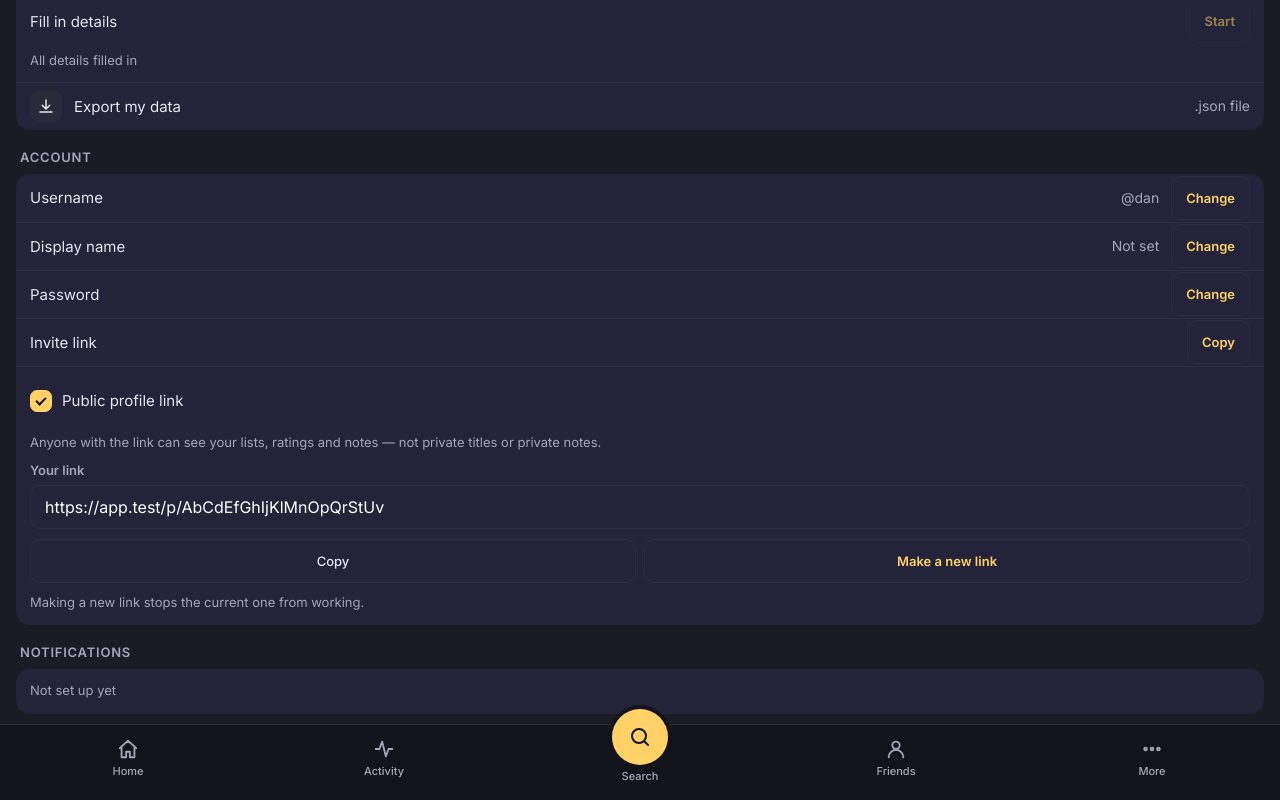
Settings > Public profile link › turning it off deletes the link and hides it
(page scrolled)
Click the switch labelled "Public profile link" at (41, 401), box [30,390,52,412]
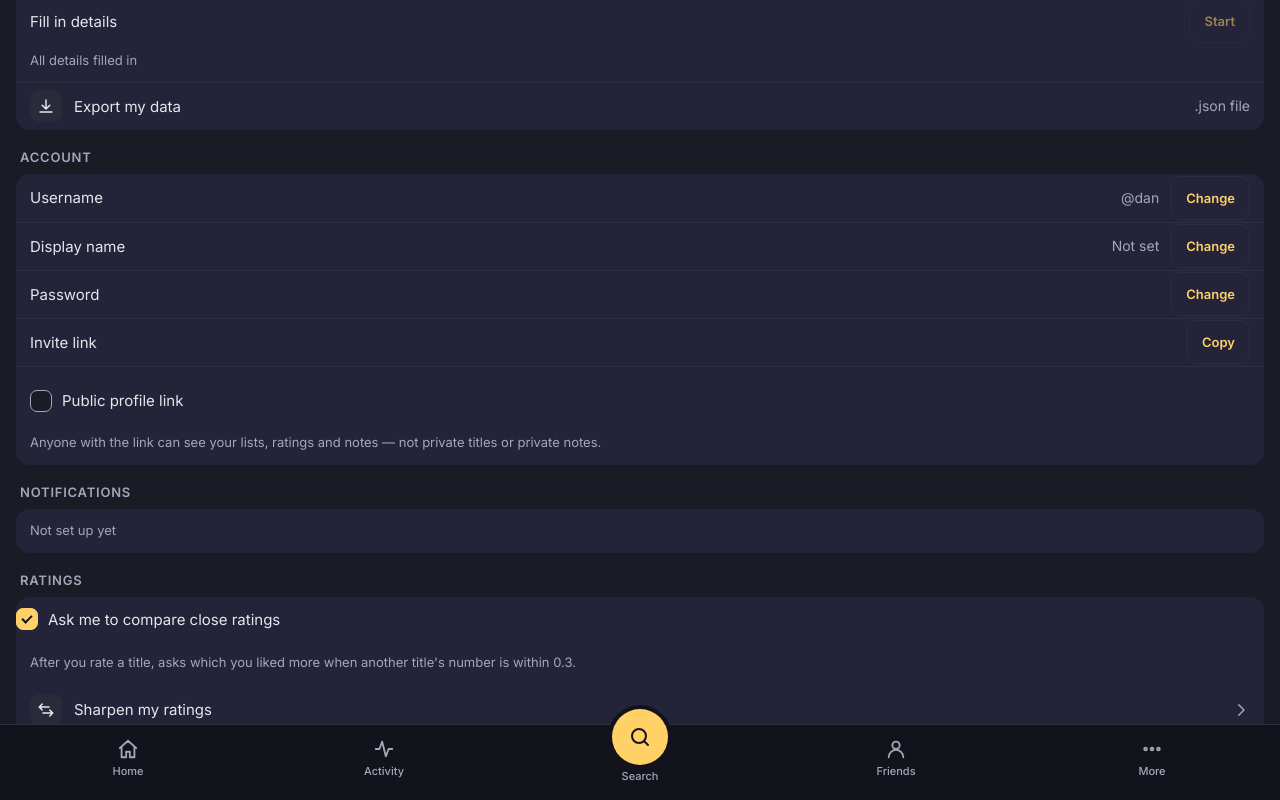
Result: the switch labelled "Public profile link" is not checked at [30,390,52,412]
Result: the button "Make a new link" is gone
